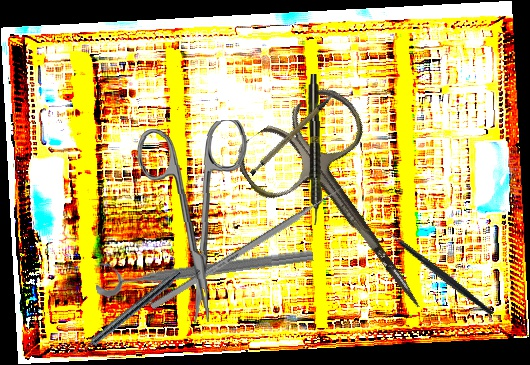Chopper: (375, 202, 495, 344)
Fixation Ring: (92, 230, 315, 299)
Handpiece: (70, 266, 183, 362), (306, 73, 323, 226)
Iris Scissors: (228, 78, 470, 347), (136, 119, 253, 325)
Pusher: (149, 179, 354, 311)
Scalpel Handle: (240, 90, 349, 178)
